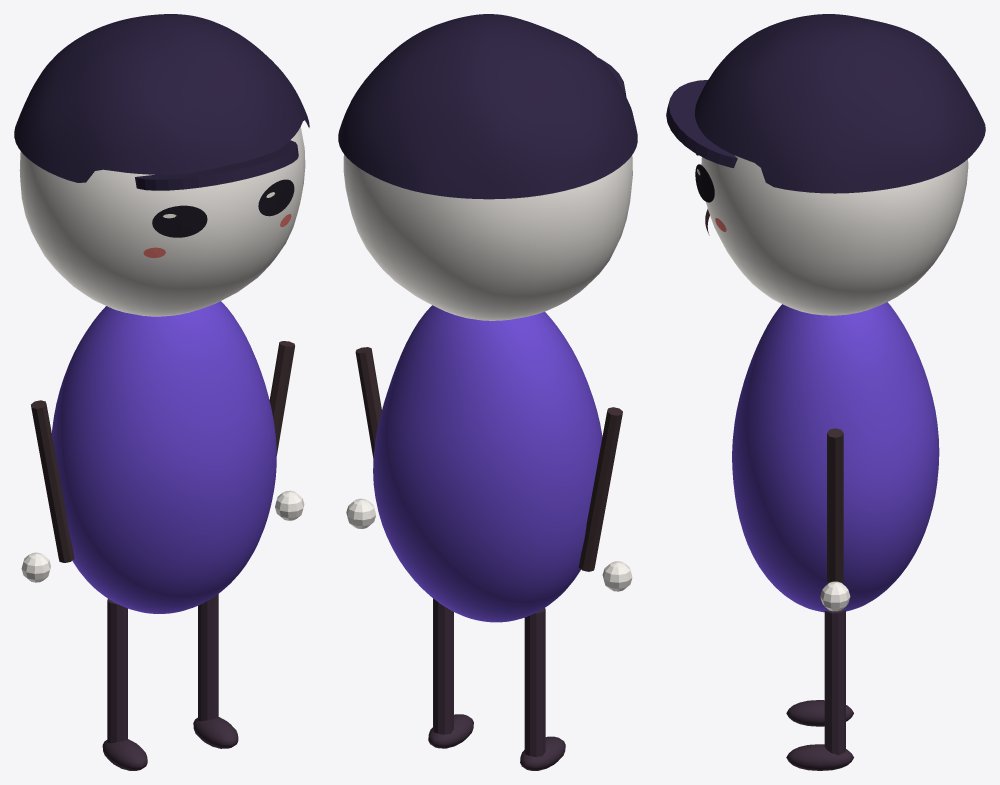
File: duro_sole.glb
The picture shows the model from 3 angles, left to right: view 1: azimuth 30°, elevation 25°; view 2: azimuth 150°, elevation 25°; view 3: azimuth 270°, elevation 25°; orthographic projection.
Visible parts, largest first — view 1: corpo, berretto, testa, gamba_L, visiera, braccio_L, gamba_R, viso_lenti, braccio_R, piede_R, piede_L, mano_L (+1 smaller); view 2: corpo, berretto, testa, gamba_L, braccio_L, gamba_R, braccio_R, piede_L, piede_R, mano_L, mano_R; view 3: corpo, berretto, testa, gamba_R, braccio_R, visiera, piede_R, piede_L, mano_R.
Boxes of the visible parts, x1=… form: corpo: x1=52, y1=301, x2=276, y2=613; berretto: x1=14, y1=14, x2=309, y2=182; testa: x1=19, y1=126, x2=305, y2=316; gamba_L: x1=107, y1=598, x2=127, y2=743; visiera: x1=135, y1=140, x2=298, y2=190; braccio_L: x1=31, y1=400, x2=74, y2=562; gamba_R: x1=198, y1=594, x2=218, y2=721; viso_lenti: x1=152, y1=179, x2=294, y2=237; braccio_R: x1=269, y1=341, x2=294, y2=455; piede_R: x1=193, y1=717, x2=238, y2=748; piede_L: x1=102, y1=739, x2=147, y2=770; mano_L: x1=21, y1=552, x2=50, y2=582; corpo: x1=373, y1=305, x2=602, y2=622; berretto: x1=338, y1=14, x2=637, y2=199; testa: x1=343, y1=154, x2=632, y2=320; gamba_L: x1=524, y1=608, x2=545, y2=770; braccio_L: x1=578, y1=407, x2=622, y2=571; gamba_R: x1=433, y1=598, x2=453, y2=747; braccio_R: x1=355, y1=347, x2=381, y2=458; piede_L: x1=520, y1=736, x2=565, y2=770; piede_R: x1=428, y1=714, x2=473, y2=748; mano_L: x1=602, y1=561, x2=632, y2=591; mano_R: x1=346, y1=498, x2=375, y2=528; corpo: x1=732, y1=302, x2=939, y2=612; berretto: x1=695, y1=14, x2=985, y2=193; testa: x1=701, y1=155, x2=968, y2=315; gamba_R: x1=824, y1=610, x2=845, y2=768; braccio_R: x1=827, y1=428, x2=843, y2=582; visiera: x1=666, y1=80, x2=737, y2=168; piede_R: x1=786, y1=744, x2=853, y2=770; piede_L: x1=786, y1=700, x2=853, y2=726; mano_R: x1=820, y1=581, x2=850, y2=611.
Size of what is drawn, in the model's own units: 0.8501 by 2.1 by 0.8464.
